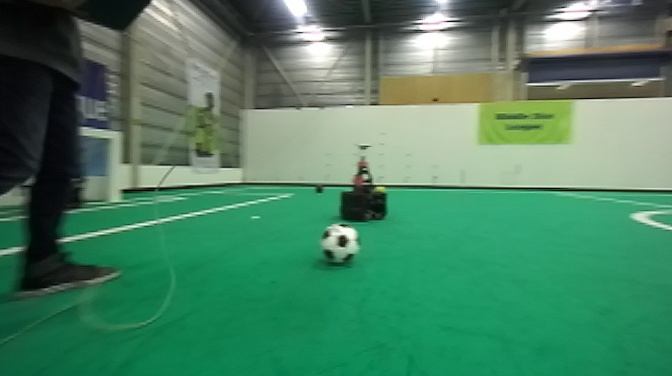ball: (320, 222, 364, 264), (314, 183, 325, 195)
humen_part: (1, 1, 128, 304)
robot: (336, 141, 392, 226)
